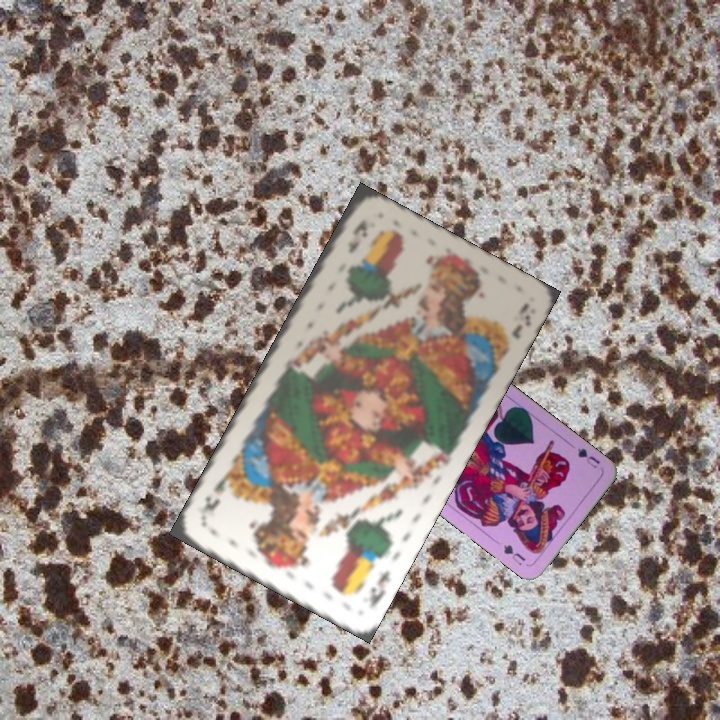EK: (365, 566, 393, 611), (344, 215, 370, 257)
GU: (573, 444, 603, 471)
